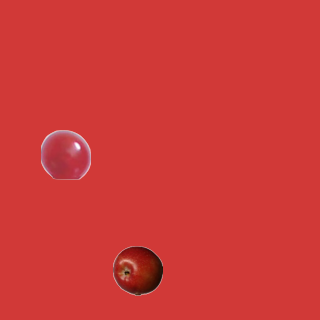Apple Braeburn: (112, 245, 162, 295)
Redcurrant: (40, 129, 90, 179)
